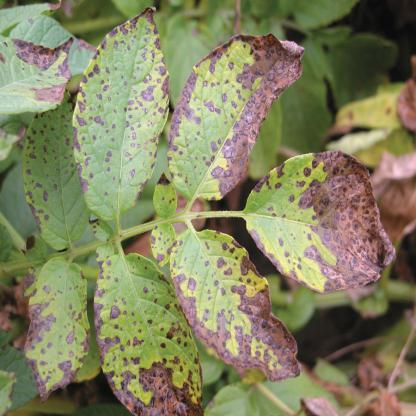potato leaf early blight: (164, 30, 310, 193), (69, 1, 172, 222), (169, 226, 306, 390), (243, 150, 399, 293), (90, 253, 215, 415), (23, 256, 92, 399), (0, 29, 73, 122)
